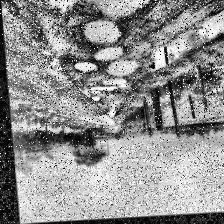pothole: (82, 0, 160, 24), (80, 19, 122, 49), (104, 60, 138, 78), (99, 79, 129, 91), (72, 62, 98, 74), (89, 97, 98, 103)
